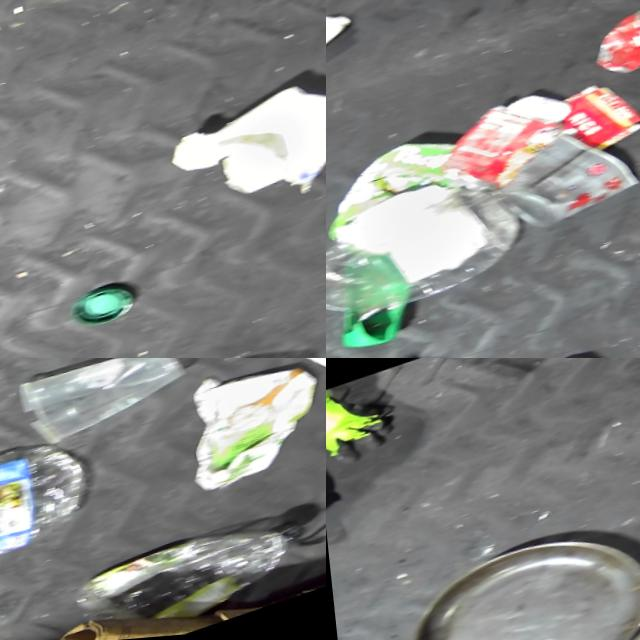can: (484, 121, 638, 246), (575, 7, 640, 91)
milk_jug: (148, 80, 326, 239)
plastic_bottle: (326, 166, 526, 347), (301, 392, 326, 542)
